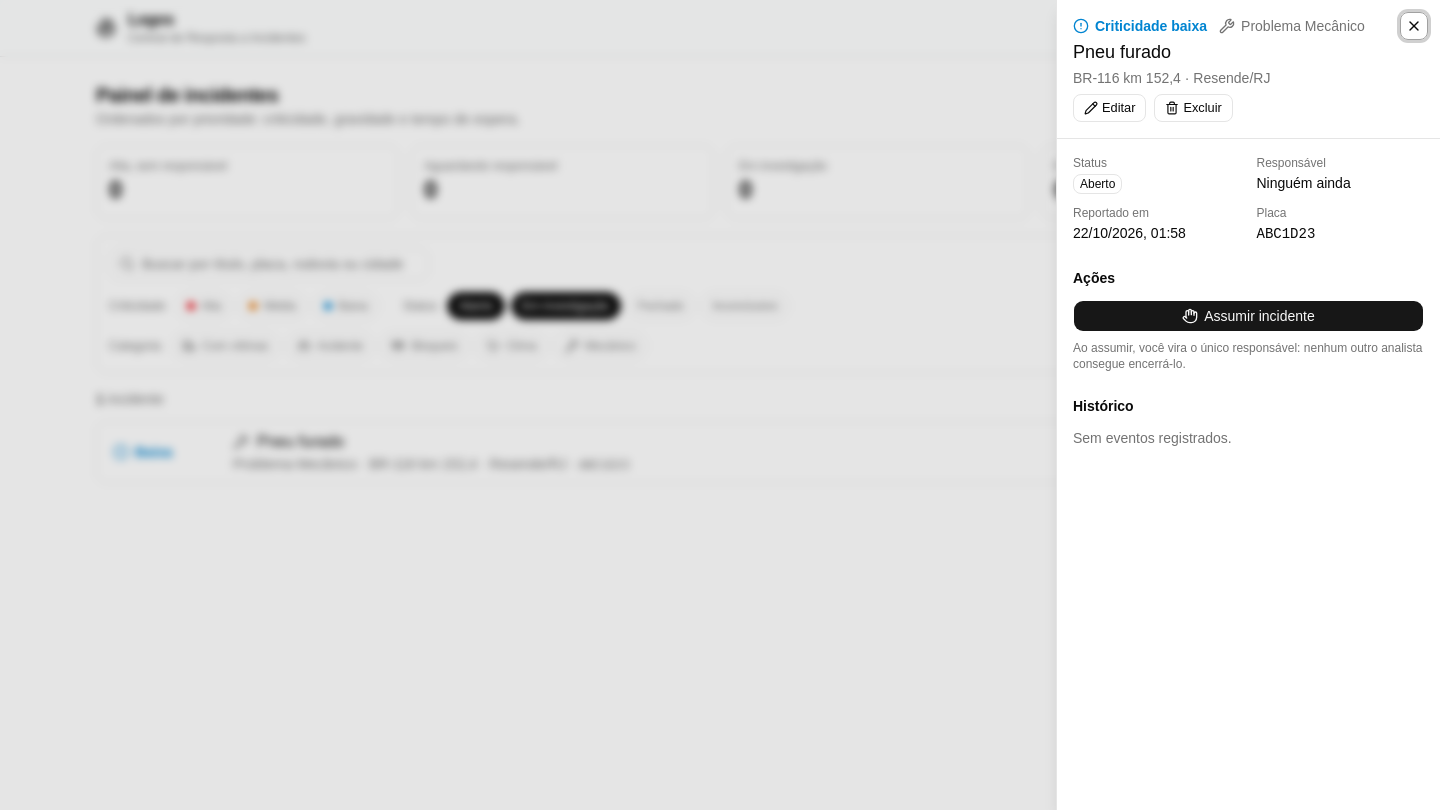
Test: ações sobre o incidente › assumir muda a tela na hora, antes de o servidor responder, e confirma depois
The image size is (1440, 810).
Expected: the heading "Pneu furado" is shown, [1073,42,1171,62]
What coordinates should you click on to do the following:
click the button "Assumir incidente"
I would click on:
 (1248, 316)
Its box is [1073,300,1424,332].
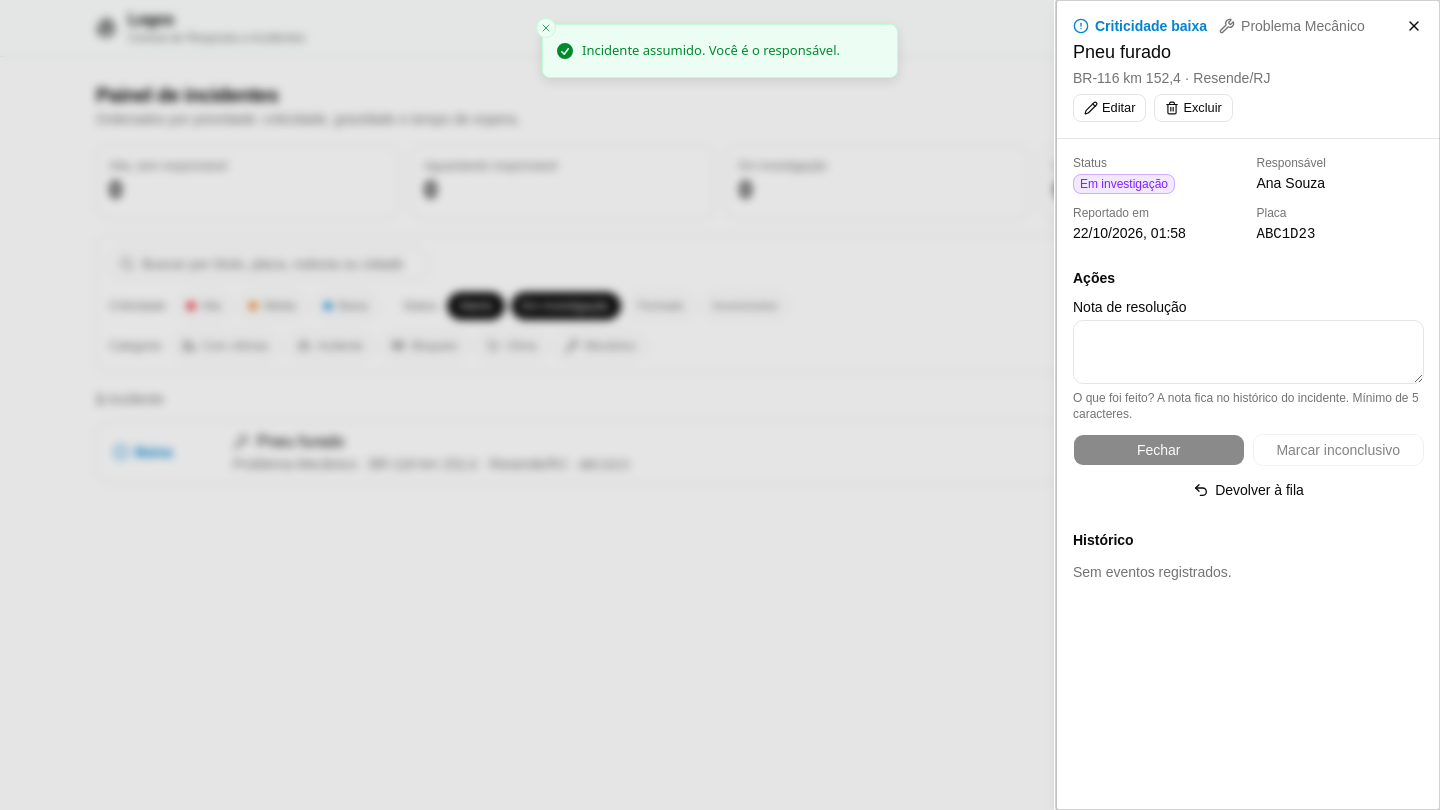
Now the text "Em investigação" is shown, box [1073,174,1175,194]
Now the text "Ana Souza" is shown, box [1256,175,1325,191]
Now the text "Incidente assumido. Você é o responsável." is shown, box [582,41,840,60]
